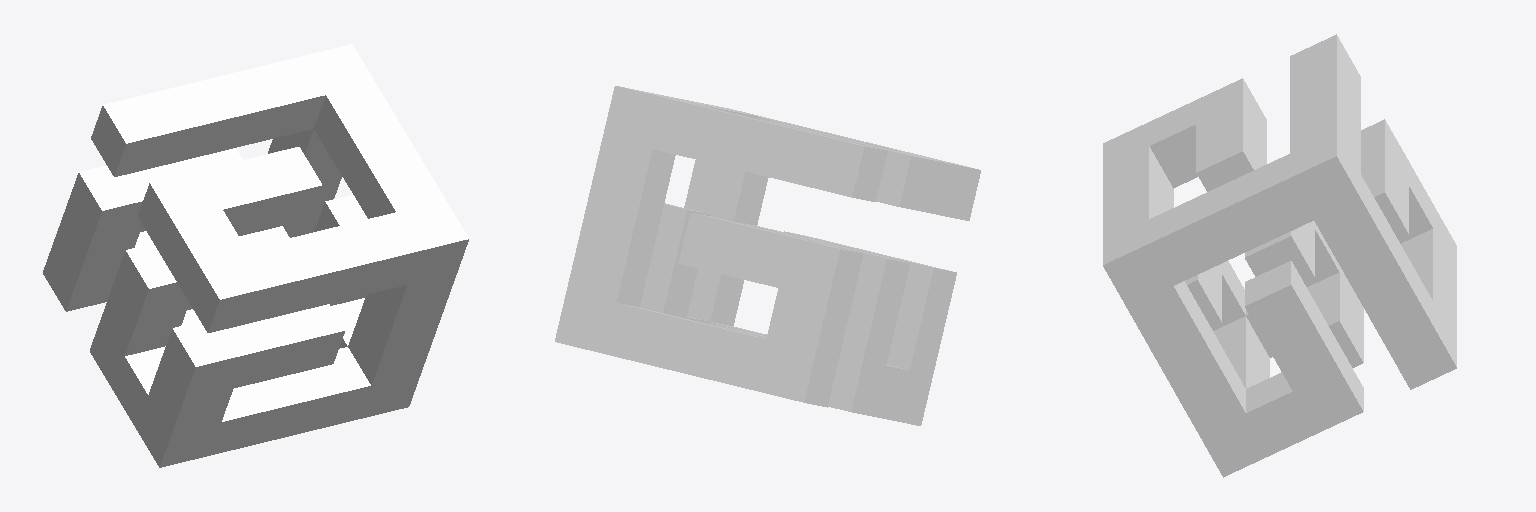
Rendered from gestalt_cube_4.obj.
3 views of the same model, side by side, from view 1: azimuth 30°, elevation 25°; view 2: azimuth 150°, elevation 25°; view 3: azimuth 270°, elevation 25° (orthographic).
Visible parts, largest first — view 1: gestalt_cube_object_3; view 2: gestalt_cube_object_3; view 3: gestalt_cube_object_3.
Boxes of the visible parts, box(x1,y1,x2,y2) form: gestalt_cube_object_3: box(43, 44, 468, 467); gestalt_cube_object_3: box(555, 86, 980, 425); gestalt_cube_object_3: box(1103, 34, 1456, 477).
Size of the model in its own units: 67.29 by 82.84 by 82.84.